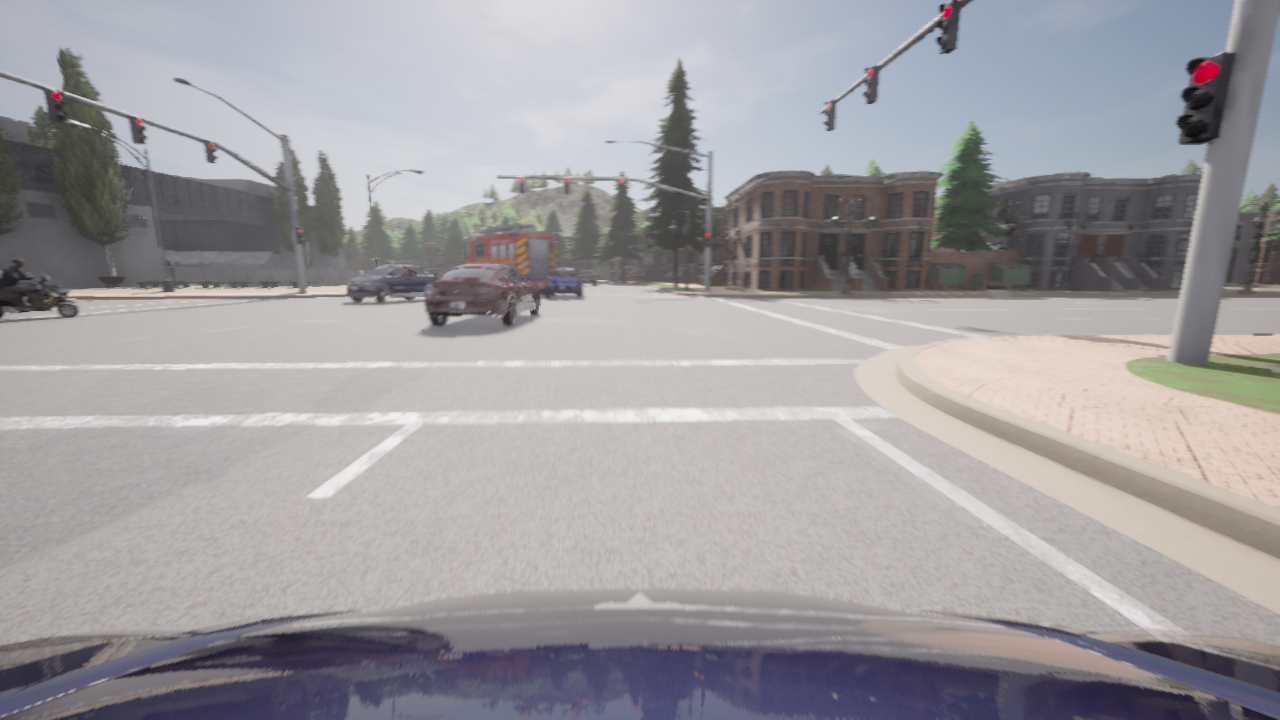cyclist: (0, 588, 1279, 719), (425, 263, 539, 326), (460, 223, 562, 293), (0, 272, 79, 319), (347, 265, 437, 303), (0, 269, 69, 304), (545, 268, 583, 298), (579, 270, 596, 286), (611, 276, 617, 284)
